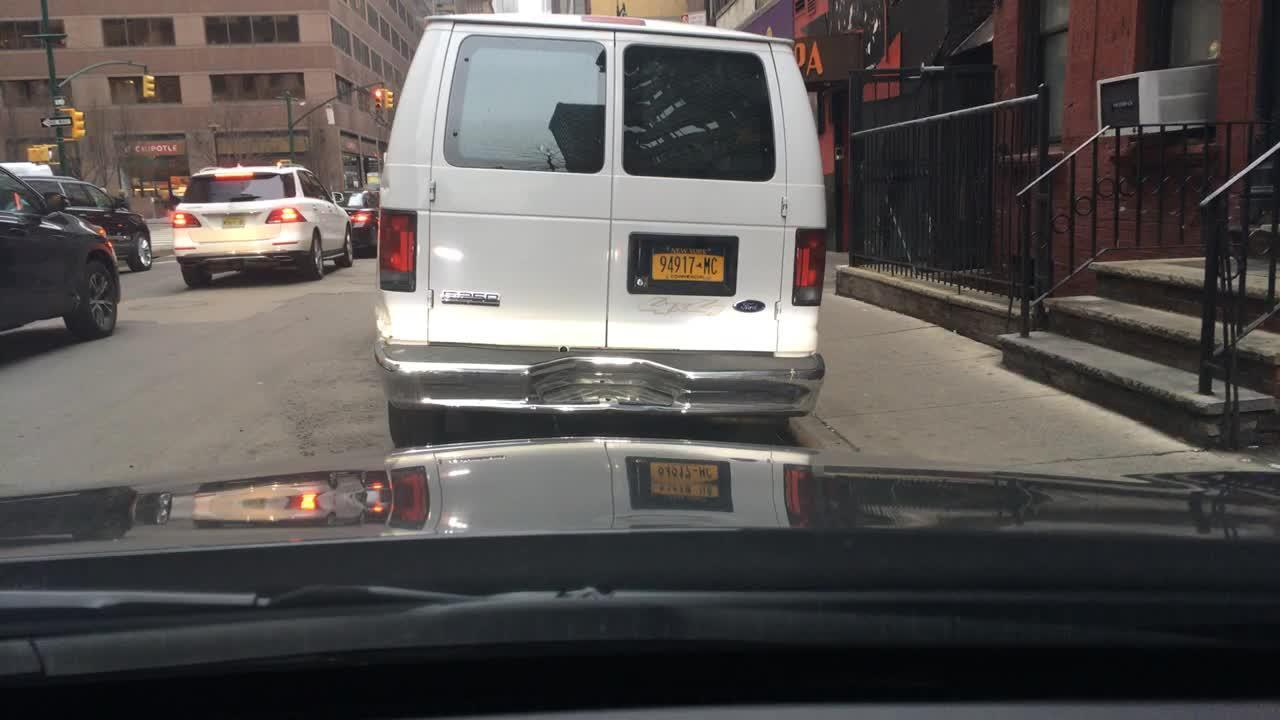ford: (725, 289, 778, 320)
